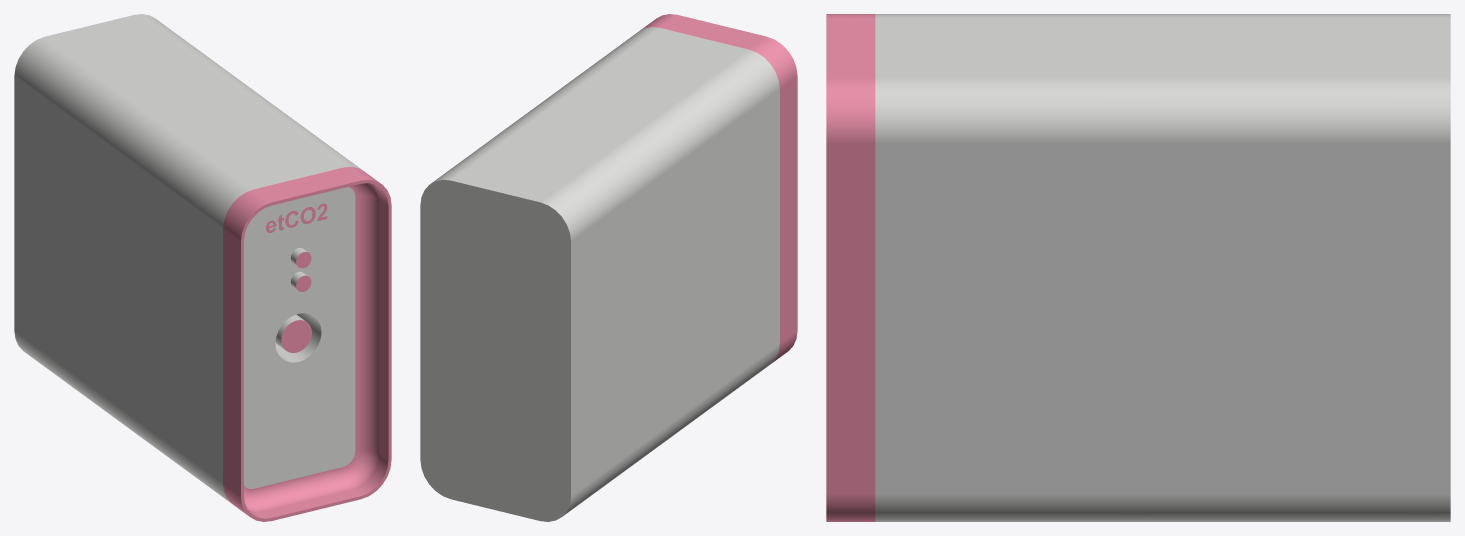
Rendered from etco2.glb.
The picture shows the model from 3 angles, left to right: view 1: azimuth 30°, elevation 25°; view 2: azimuth 150°, elevation 25°; view 3: azimuth 270°, elevation 25°; orthographic projection. The views are drawn at different scales.
Parts seen in each view (by area): view 1: etCO2 Module v5; view 2: etCO2 Module v5; view 3: etCO2 Module v5.
Boxes of the visible parts, x1,y1,x2,y2 form: etCO2 Module v5: (14,14,391,521); etCO2 Module v5: (420,14,797,521); etCO2 Module v5: (826,14,1450,521).
Size of the model in its own units: 4.9 by 9.9 by 12.75.
